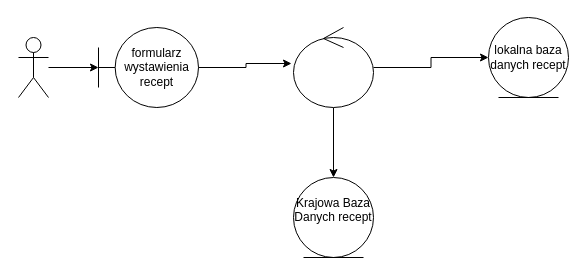
Some shapes in this 586 by 275 pixel diagram are drawn without their labels. Each missing label, with the box of its shape:
lekarz: (18, 36, 48, 98)
Sytstem przesyu informacji: (292, 26, 374, 108)
